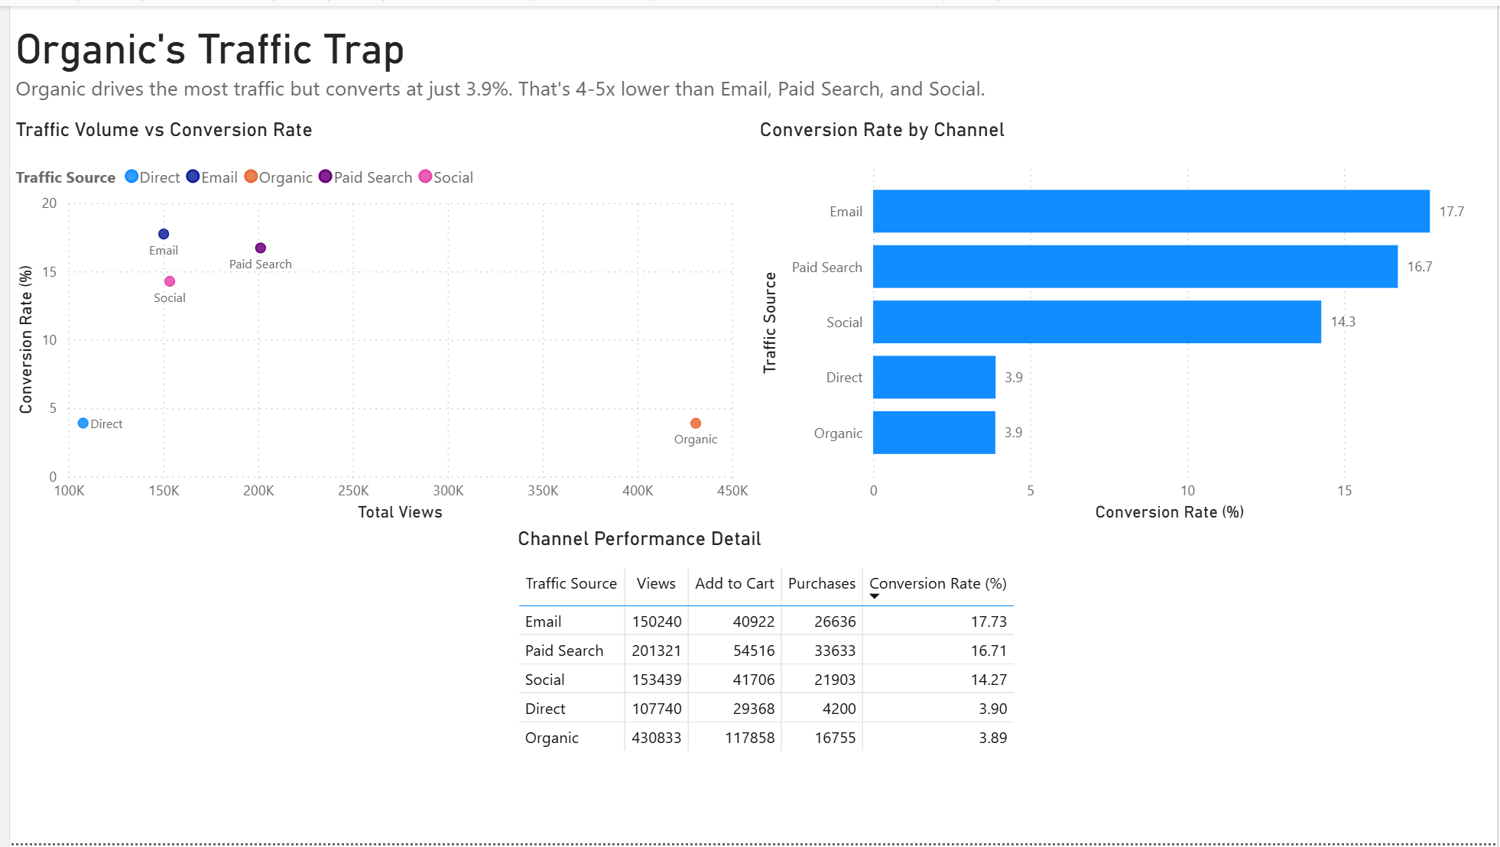

The dashboard page shown, as its layout file describes it:
{"tool":"powerbi","page":{"name":"Channel ","canvas":[1280,720],"ordinal":1},"visuals":[{"type":"textbox","title":"\tOrganic''s Traffic Trap","box":[0,16,880,80],"z":0},{"type":"clusteredBarChart","title":"Conversion Rate by Channel","fields":{"Category":["q1_conversion_rate_per_channel.traffic_source"],"Y":["Sum(q1_conversion_rate_per_channel.conversion_rate_view_to_purchase_pct)"]},"box":[640,96,624,352],"z":1000},{"type":"scatterChart","title":"Traffic Volume vs Conversion Rate","fields":{"X":["Sum(q1_conversion_rate_per_channel.total_view)"],"Y":["Sum(q1_conversion_rate_per_channel.conversion_rate_view_to_purchase_pct)"],"Series":["q1_conversion_rate_per_channel.traffic_source"]},"box":[0,96,640,352],"z":2000},{"type":"tableEx","title":"Channel Performance Detail","fields":{"Values":["q1_conversion_rate_per_channel.traffic_source","Sum(q1_conversion_rate_per_channel.total_view)","Sum(q1_conversion_rate_per_channel.total_add_to_cart)","Sum(q1_conversion_rate_per_channel.total_purchase)","Avg(q1_conversion_rate_per_channel.conversion_rate_view_to_purchase_pct)"]},"box":[432,448,448,208],"z":3000}]}

Visuals, with their boxes in screenshot pixels (x1, y1, x2, y2), scaled from the page's 1280x720 canvas onto the 1500x847 screenshot:
"	Organic''s Traffic Trap" textbox: bbox=[0, 19, 1031, 113]
"Conversion Rate by Channel" clusteredBarChart: bbox=[750, 113, 1481, 527]
"Traffic Volume vs Conversion Rate" scatterChart: bbox=[0, 113, 750, 527]
"Channel Performance Detail" tableEx: bbox=[506, 527, 1031, 772]
